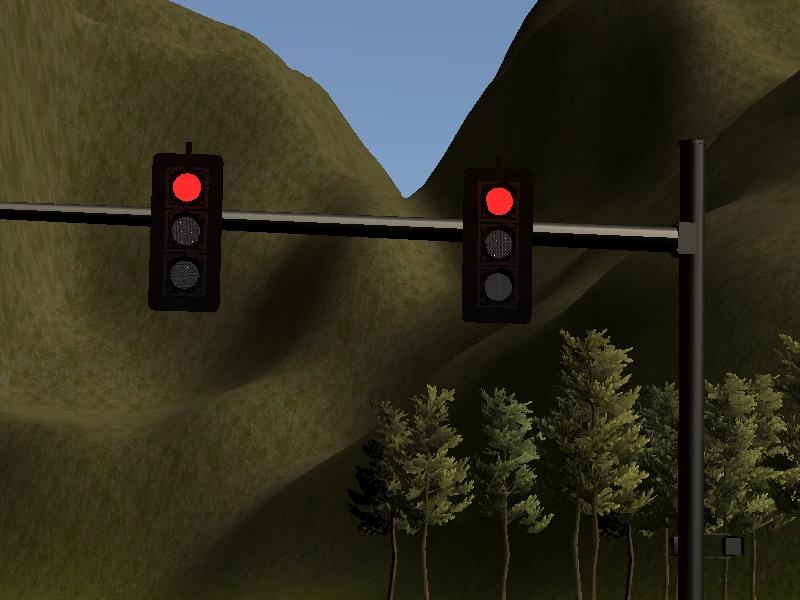red: (459, 166, 540, 325), (149, 151, 224, 316)
